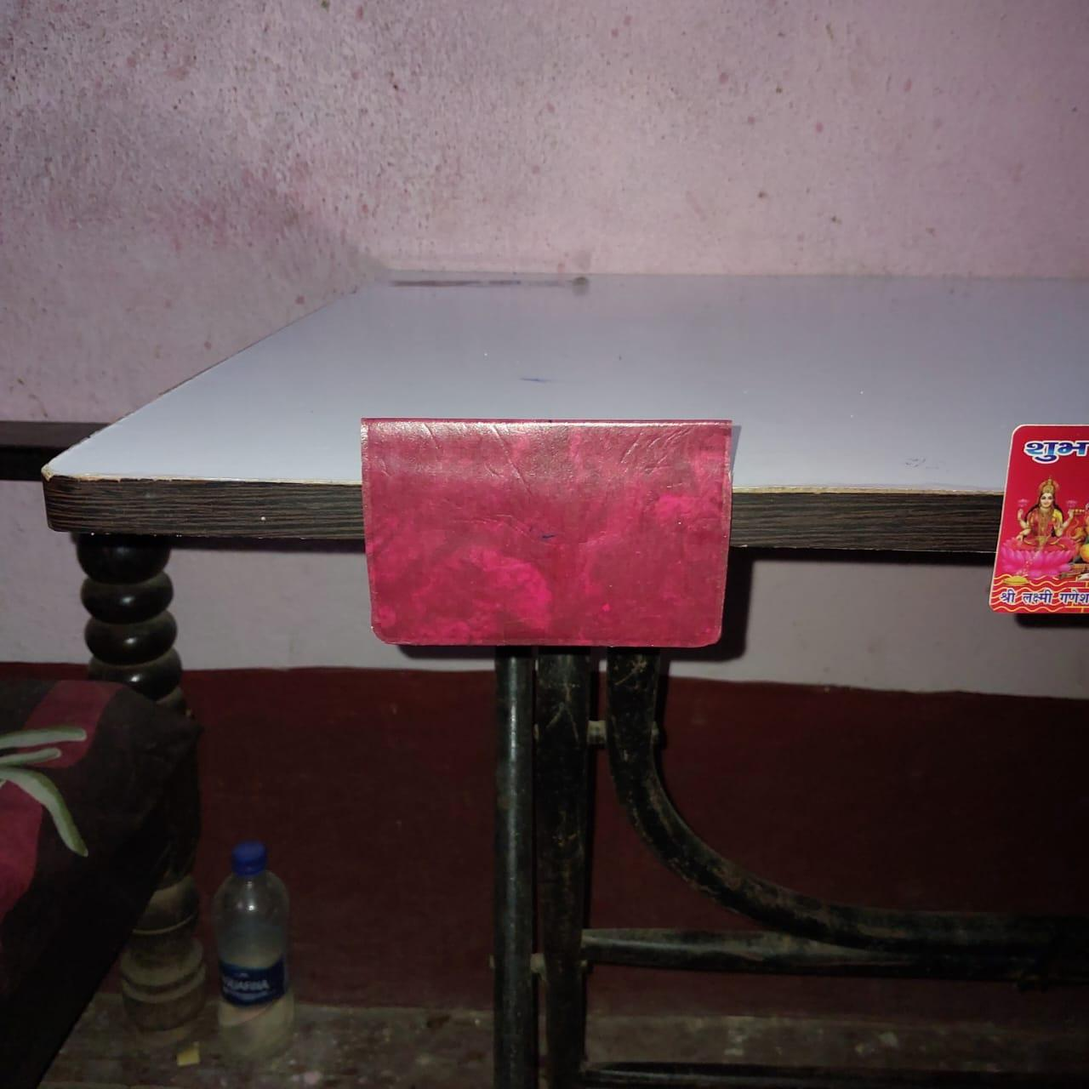blessing_card: (990, 424, 1088, 617)
wallet: (357, 414, 734, 647)
